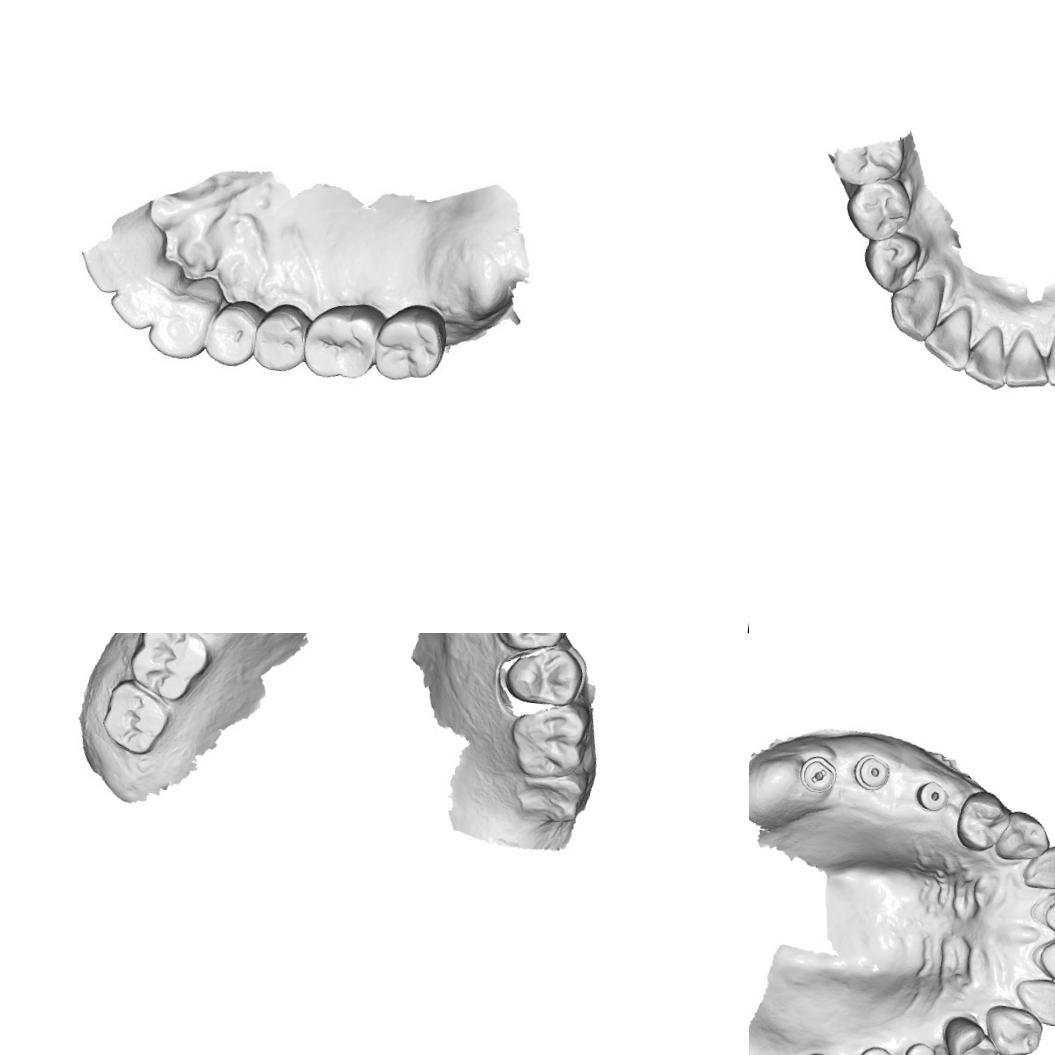canine: (148, 278, 218, 366), (884, 271, 949, 346), (980, 1001, 1046, 1055), (993, 808, 1054, 865)
implant: (850, 752, 892, 793), (913, 778, 952, 813), (902, 1040, 938, 1055), (853, 1043, 897, 1055)
implant_minus: (796, 752, 840, 795)
incisor: (77, 212, 161, 304), (108, 262, 174, 334), (918, 308, 978, 374), (1001, 330, 1055, 393), (960, 329, 1012, 392), (1010, 975, 1055, 1029), (1021, 841, 1055, 894), (1033, 933, 1055, 992), (1040, 883, 1055, 943), (1043, 323, 1055, 392)
molar: (369, 301, 447, 390), (506, 702, 589, 785), (123, 633, 217, 706), (300, 302, 382, 385), (96, 676, 175, 761)
premolar: (502, 640, 588, 710), (842, 172, 917, 246), (858, 229, 926, 298), (954, 788, 1010, 854), (255, 304, 308, 373), (206, 299, 260, 366), (939, 1014, 1002, 1055), (492, 633, 571, 658)
